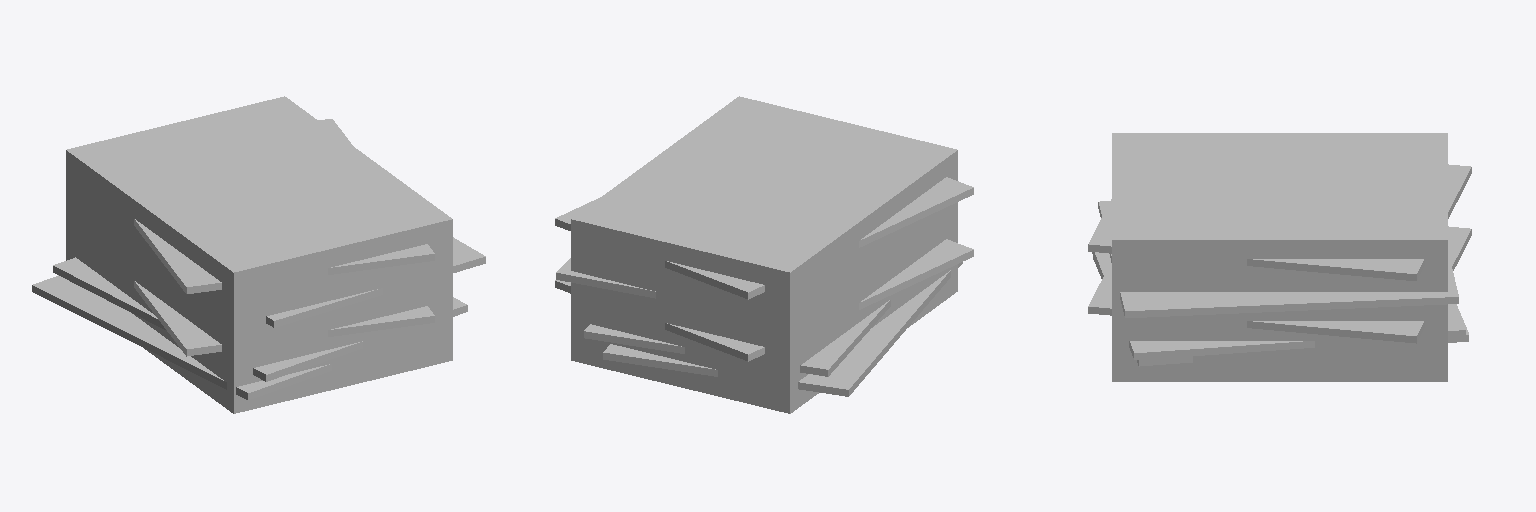
File: Documents.obj
The picture shows the model from 3 angles: view 1: azimuth 30°, elevation 25°; view 2: azimuth 150°, elevation 25°; view 3: azimuth 270°, elevation 25°; orthographic projection.
Parts seen in each view (by area): view 1: Cube, Cube.003, Cube.005, Cube.002, Cube.001, Cube.004; view 2: Cube, Cube.003, Cube.005, Cube.001, Cube.002, Cube.004; view 3: Cube, Cube.004, Cube.005, Cube.001, Cube.002, Cube.003.
Boxes of the visible parts, x1=… form: Cube: x1=66, y1=96, x2=452, y2=413; Cube.003: x1=32, y1=275, x2=331, y2=400; Cube.005: x1=134, y1=119, x2=434, y2=293; Cube.002: x1=53, y1=257, x2=467, y2=381; Cube.001: x1=134, y1=281, x2=434, y2=356; Cube.004: x1=266, y1=237, x2=485, y2=327; Cube: x1=571, y1=96, x2=957, y2=413; Cube.003: x1=603, y1=262, x2=962, y2=396; Cube.005: x1=555, y1=177, x2=973, y2=299; Cube.001: x1=555, y1=239, x2=973, y2=361; Cube.002: x1=584, y1=300, x2=890, y2=376; Cube.004: x1=556, y1=258, x2=655, y2=298; Cube: x1=1112, y1=133, x2=1447, y2=381; Cube.004: x1=1098, y1=201, x2=1458, y2=317; Cube.005: x1=1088, y1=164, x2=1471, y2=280; Cube.001: x1=1088, y1=226, x2=1471, y2=343; Cube.002: x1=1092, y1=252, x2=1465, y2=359; Cube.003: x1=1093, y1=257, x2=1468, y2=366.
Size of the model in its own units: 2.1 by 0.9292 by 2.28.